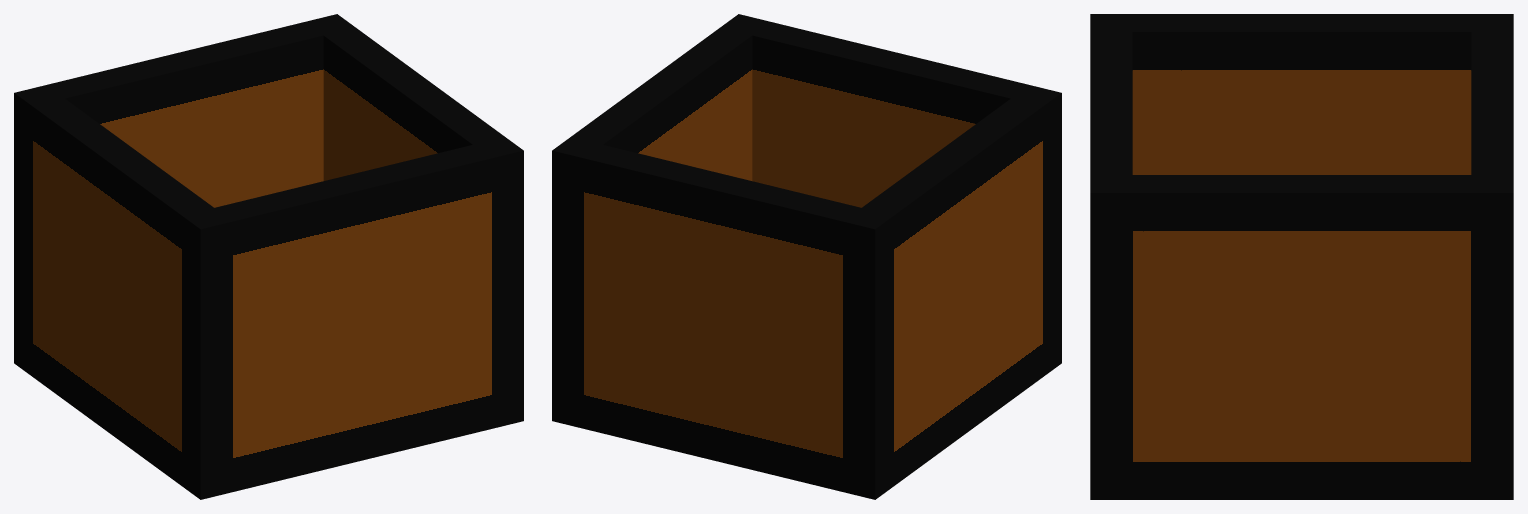
The model's file is BoxNoLid.dae.
The picture shows the model from 3 angles, left to right: view 1: azimuth 30°, elevation 25°; view 2: azimuth 150°, elevation 25°; view 3: azimuth 270°, elevation 25°; orthographic projection. The views are drawn at different scales.
Parts seen in each view (by area): view 1: Crate; view 2: Crate; view 3: Crate.
Part boxes in pixels (left/top/right/bottom): Crate: left=14, top=14, right=523, bottom=499; Crate: left=552, top=14, right=1061, bottom=499; Crate: left=1090, top=14, right=1513, bottom=499.
Bounding box in the file's own units: 10 × 8 × 10.
Materials: 1 (1 with a texture image).
